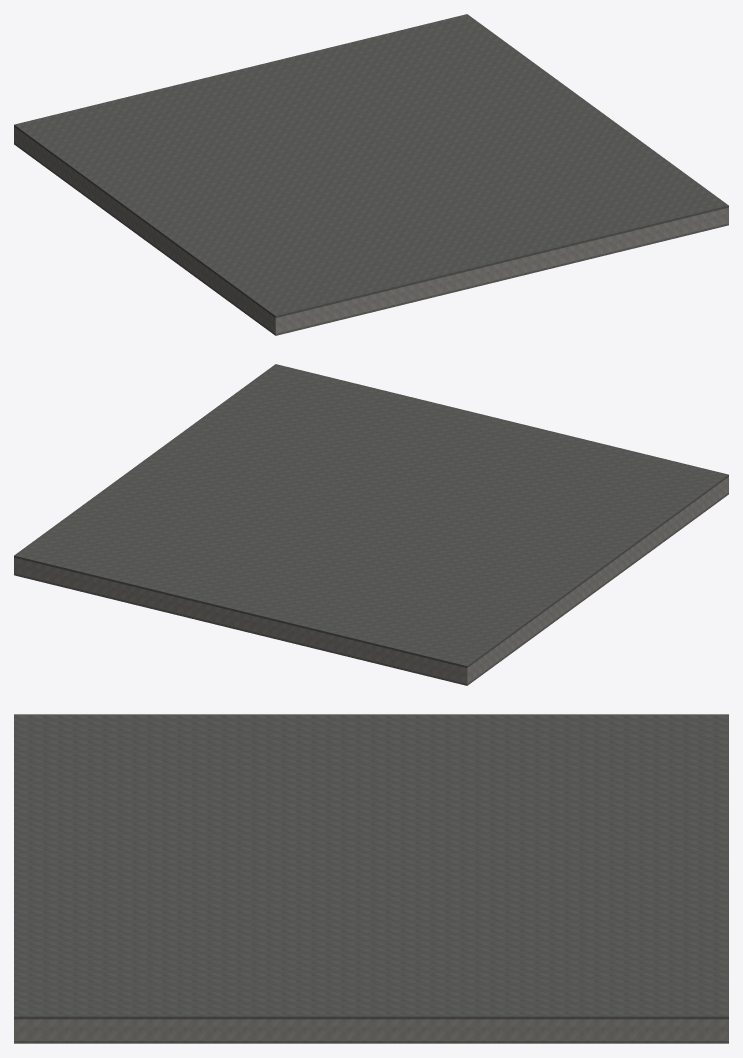
File: level1_shell.obj
3 renders of one model, top to bottom at view 1: azimuth 30°, elevation 25°; view 2: azimuth 150°, elevation 25°; view 3: azimuth 270°, elevation 25°, orthographic. The views are drawn at different scales.
Bounding box in the file's own units: 120 × 5 × 120.
3 materials, 3 textured.
